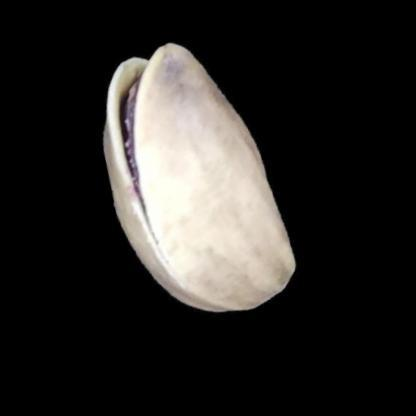pistachio: (97, 37, 300, 322)
